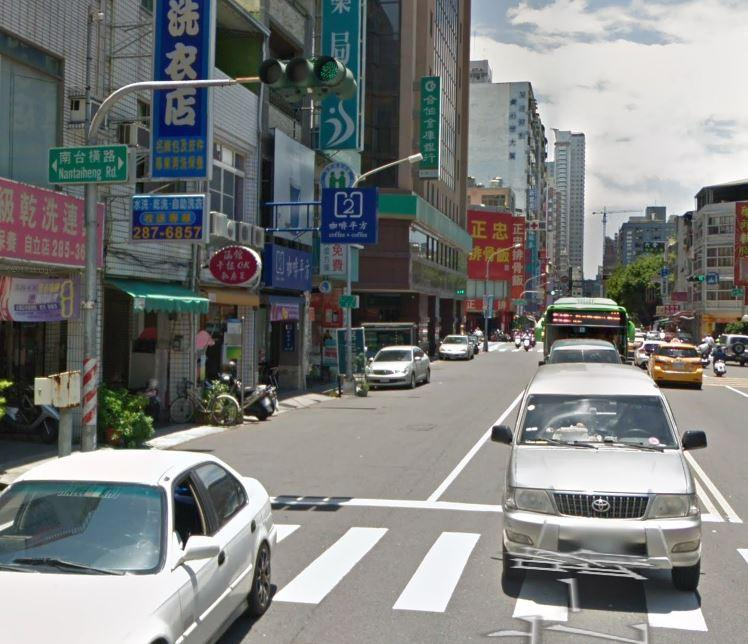green_traffic_light: (256, 55, 362, 105)
